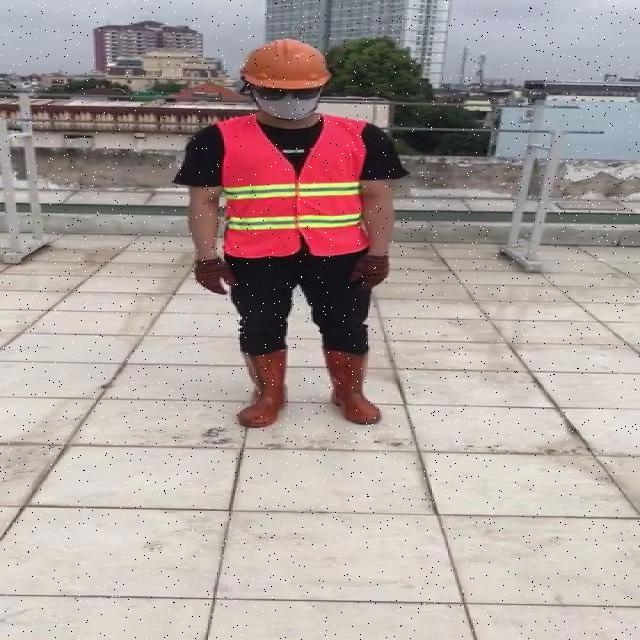Hard_hat: (236, 37, 338, 97)
Vest: (214, 110, 369, 258)
